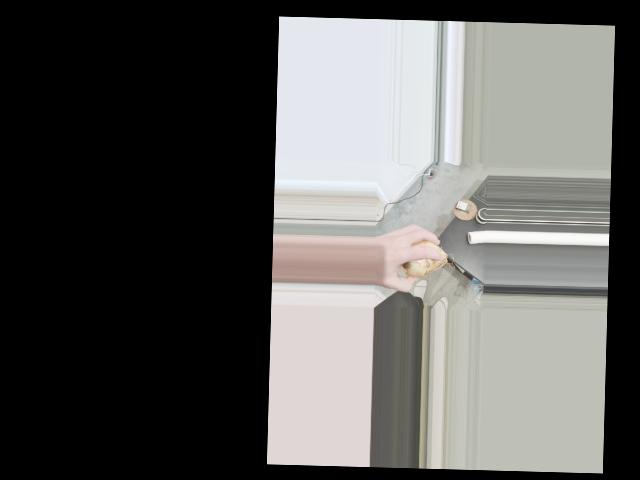onion: (403, 241, 446, 278)
